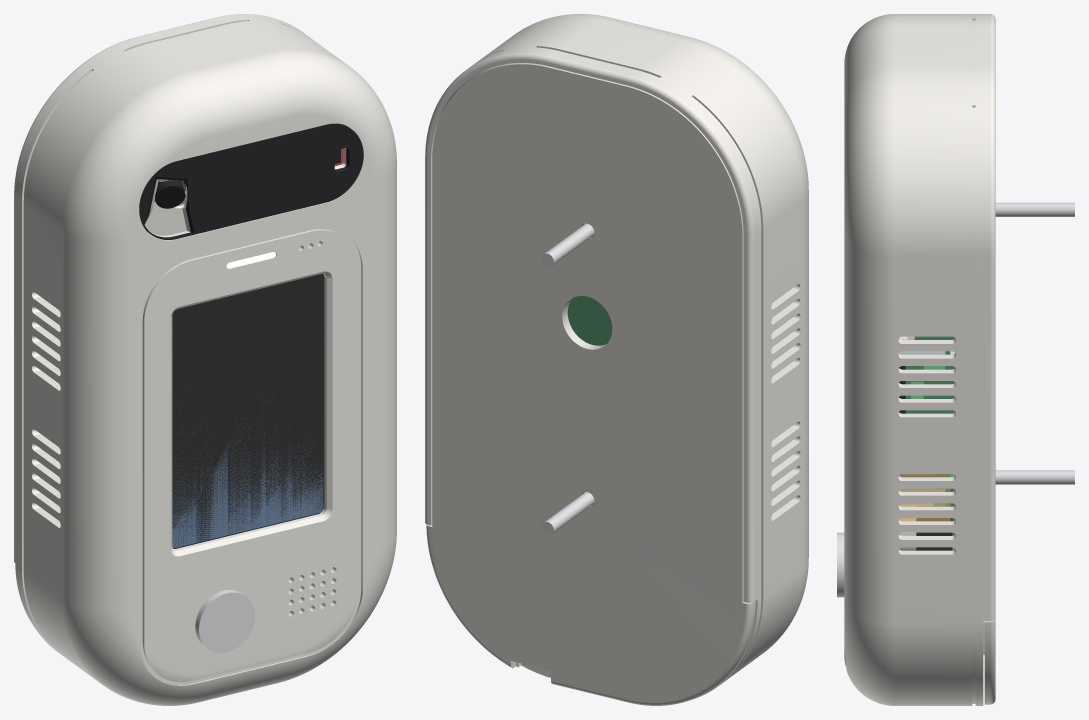
File: DataCat_doorbell_RevF.glb
3 views of the same model, side by side, from view 1: azimuth 30°, elevation 25°; view 2: azimuth 150°, elevation 25°; view 3: azimuth 270°, elevation 25° (orthographic).
Visible parts, largest first — view 1: 01_front_shell, REF_hdmi_lcd_3p5in, 04_black_visor, REF_lcd_screen, REF_button_16mm, 03_wall_plate, REF_camera_lens; view 2: 03_wall_plate, 01_front_shell, HW_4x25_wall, REF_raspberry_pi_4; view 3: 01_front_shell, HW_4x25_wall, REF_raspberry_pi_4, 03_wall_plate, KEEP_hdmi_fpc_cable, REF_button_16mm, REF_usbc_plug, 02_lcd_pi_chassis.
Boxes of the visible parts, left/top/right/bottom form: 01_front_shell: left=14, top=14, right=396, bottom=705; REF_hdmi_lcd_3p5in: left=172, top=274, right=324, bottom=548; 04_black_visor: left=139, top=123, right=363, bottom=239; REF_lcd_screen: left=172, top=318, right=323, bottom=548; REF_button_16mm: left=195, top=590, right=255, bottom=652; 03_wall_plate: left=15, top=202, right=186, bottom=627; REF_camera_lens: left=155, top=180, right=185, bottom=208; 03_wall_plate: left=426, top=63, right=755, bottom=705; 01_front_shell: left=425, top=14, right=808, bottom=698; HW_4x25_wall: left=541, top=223, right=594, bottom=535; REF_raspberry_pi_4: left=567, top=296, right=612, bottom=345; 01_front_shell: left=844, top=14, right=995, bottom=705; HW_4x25_wall: left=995, top=202, right=1074, bottom=484; REF_raspberry_pi_4: left=905, top=336, right=955, bottom=535; 03_wall_plate: left=983, top=620, right=995, bottom=704; KEEP_hdmi_fpc_cable: left=899, top=474, right=950, bottom=521; REF_button_16mm: left=837, top=532, right=844, bottom=597; REF_usbc_plug: left=916, top=506, right=952, bottom=550; 02_lcd_pi_chassis: left=899, top=351, right=945, bottom=550.
Size of the model in its own units: 0.105 by 0.1928 by 0.066.
